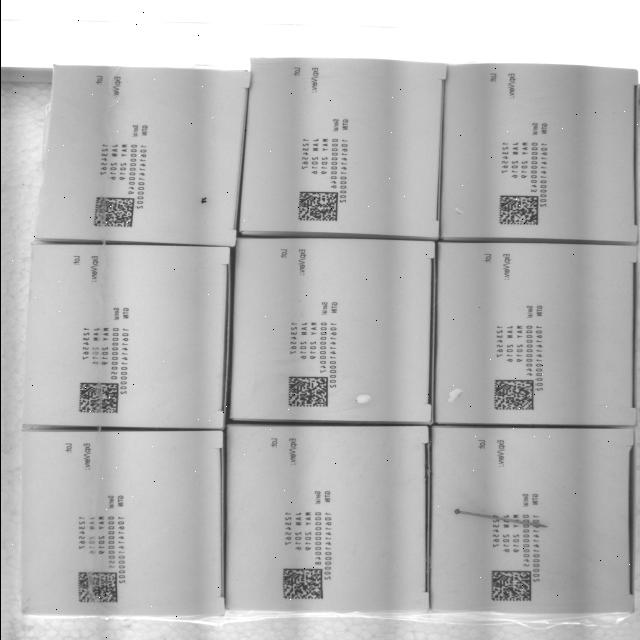datamatrix: (91, 194, 136, 228), (284, 374, 328, 408), (496, 193, 540, 227), (74, 571, 119, 604), (75, 383, 119, 416), (294, 190, 338, 223), (280, 567, 324, 600), (488, 570, 532, 603), (492, 379, 536, 412)
